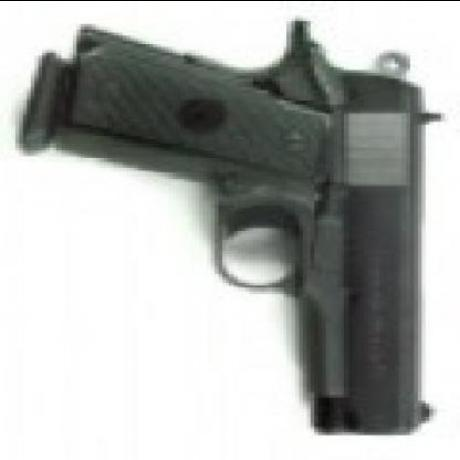weapon: (18, 18, 452, 442)
